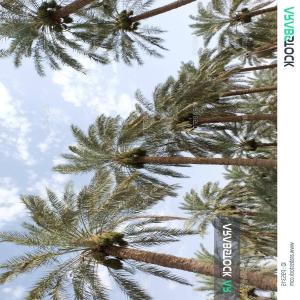palm tree: (1, 0, 278, 300)
